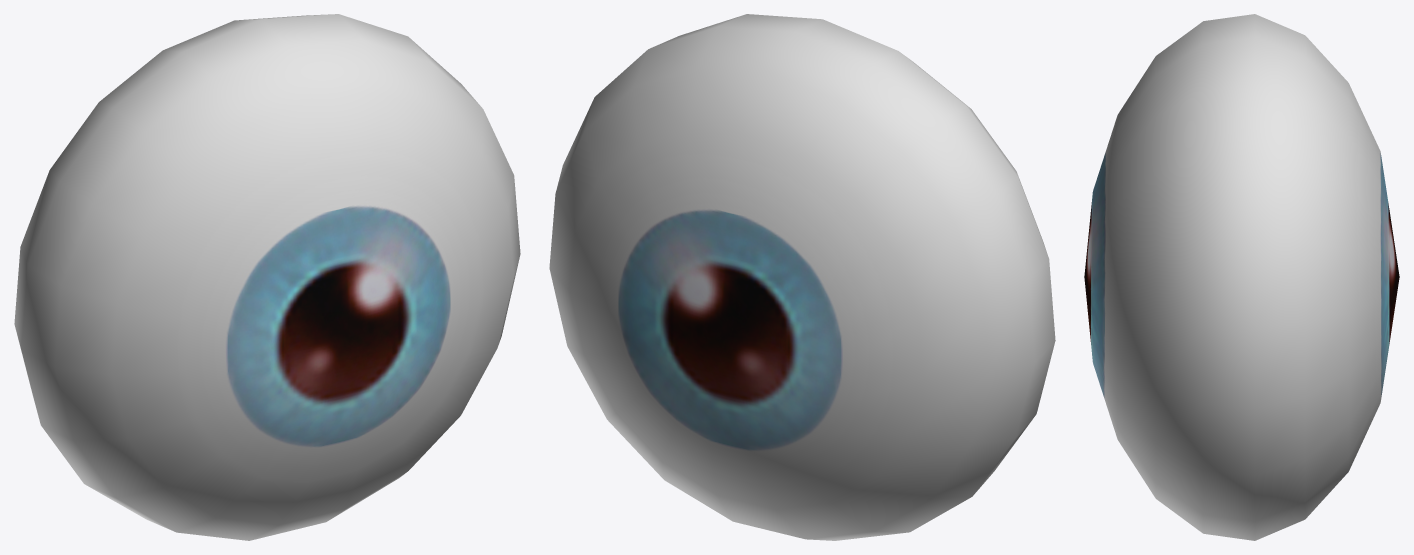
Rendered from jiqiren_eye.fbx.
The picture shows the model from 3 angles, left to right: view 1: azimuth 30°, elevation 25°; view 2: azimuth 150°, elevation 25°; view 3: azimuth 270°, elevation 25°; orthographic projection. The views are drawn at different scales.
Parts seen in each view (by area): view 1: yanqiu; view 2: yanqiu; view 3: yanqiu.
Boxes of the visible parts, left/top/right/bottom form: yanqiu: left=14, top=14, right=520, bottom=540; yanqiu: left=549, top=14, right=1055, bottom=540; yanqiu: left=1084, top=14, right=1399, bottom=540.
Bounding box in the file's own units: 0.0547 × 0.0545 × 0.0327.
